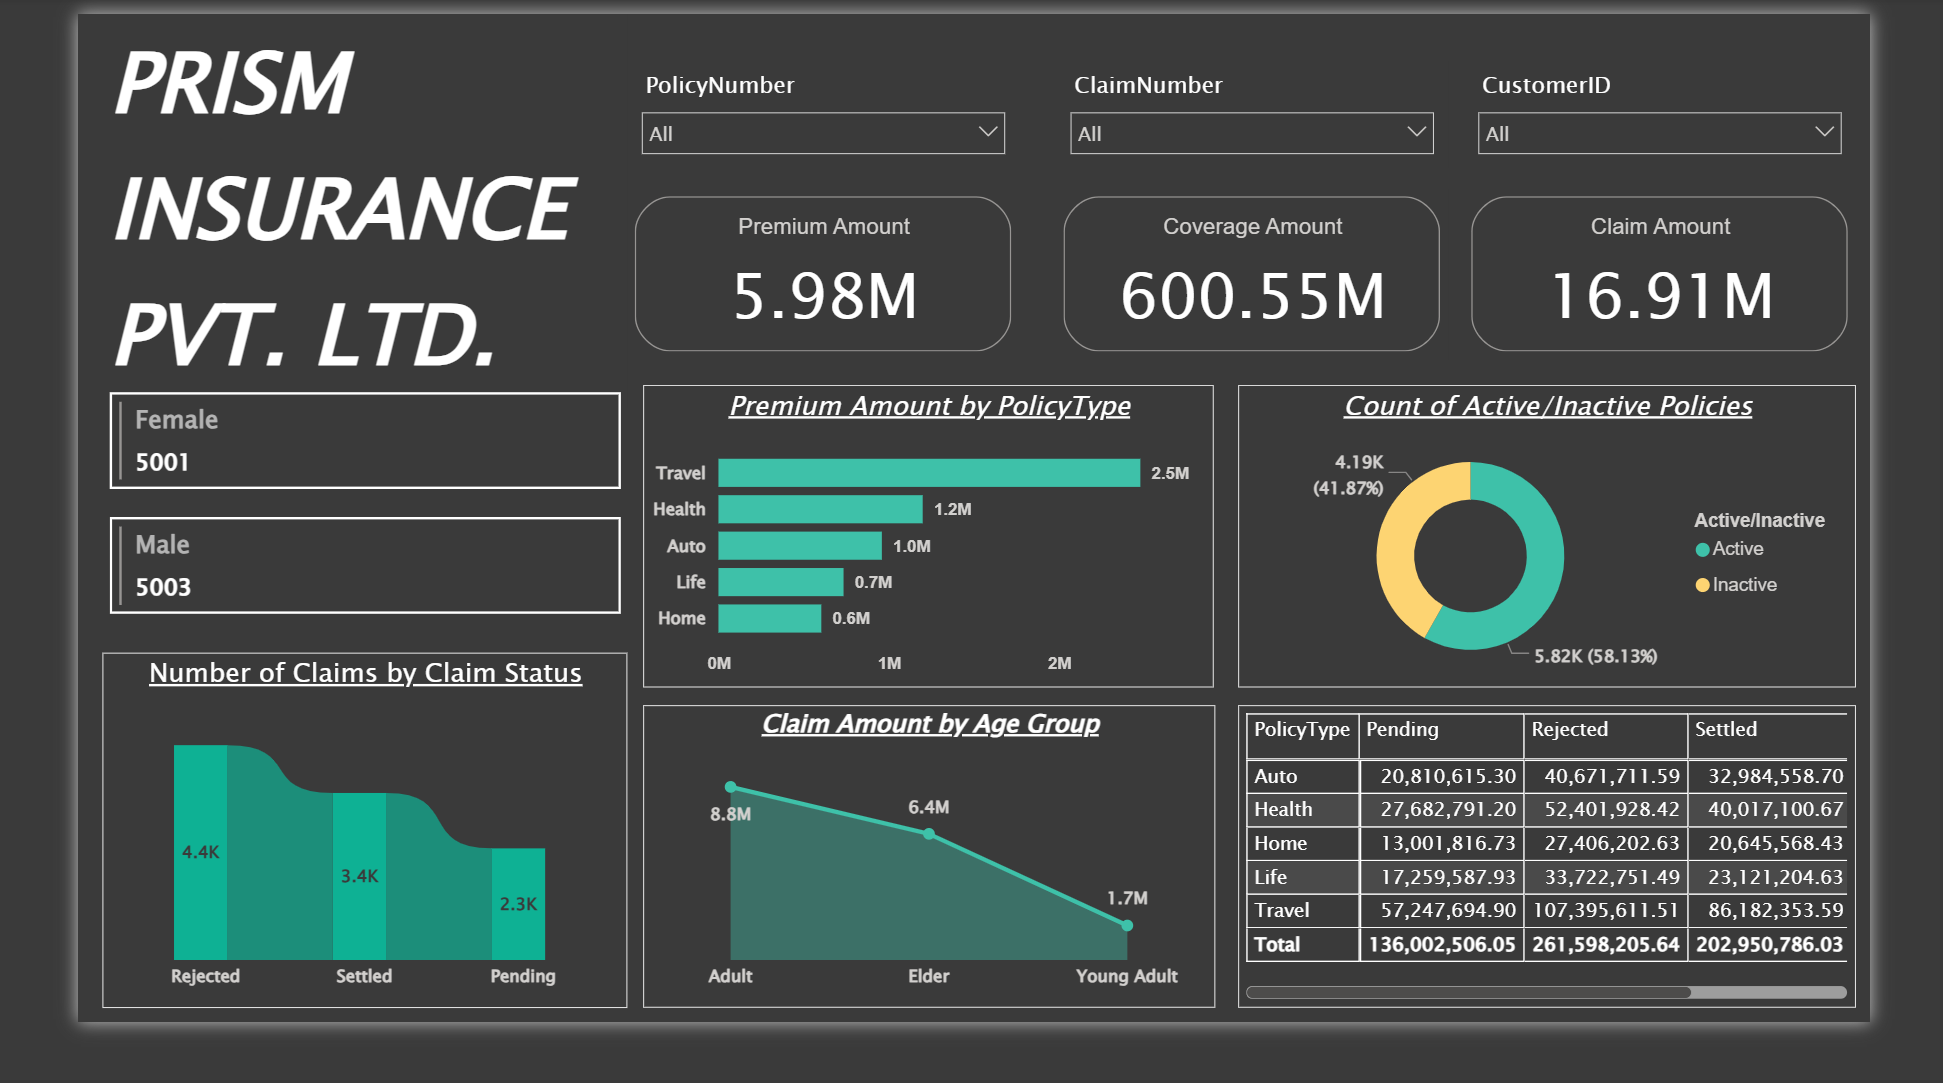

The page's visual inventory and layout, read from the dashboard file:
{"tool":"powerbi","page":{"name":"Page 1","canvas":[1280,720],"ordinal":0},"visuals":[{"type":"slicer","fields":{"Values":["InsuranceData.PolicyNumber"]},"box":[393,33.6,279.8,75.9],"z":0},{"type":"slicer","fields":{"Values":["InsuranceData.ClaimNumber"]},"box":[699,33.6,279.8,75.9],"z":1000},{"type":"slicer","fields":{"Values":["InsuranceData.CustomerID"]},"box":[990,33.6,279.8,75.9],"z":2000},{"type":"textbox","box":[17.5,0,375,281.2],"z":3000},{"type":"cardVisual","fields":{"Data":["Sum(InsuranceData.PremiumAmount)"]},"box":[393,125.6,279.8,121.9],"z":4000},{"type":"cardVisual","fields":{"Data":["Sum(InsuranceData.CoverageAmount)"]},"box":[699,125.6,279.8,121.9],"z":5000},{"type":"cardVisual","fields":{"Data":["Sum(InsuranceData.ClaimAmount)"]},"box":[990,125.6,279.8,121.9],"z":6000},{"type":"multiRowCard","fields":{"Values":["InsuranceData.Gender","CountNonNull(InsuranceData.Gender)"]},"box":[17.5,265,375,191.2],"z":7000},{"type":"ribbonChart","fields":{"Category":["InsuranceData.ClaimStatus"],"Y":["CountNonNull(InsuranceData.ClaimStatus)"]},"box":[17.5,456.2,375,253.8],"z":8000},{"type":"barChart","title":"Premium Amount by PolicyType","fields":{"Category":["InsuranceData.PolicyType"],"Y":["Sum(InsuranceData.PremiumAmount)"]},"box":[403.8,265,407.5,216.2],"z":9000},{"type":"lineChart","title":"Claim Amount by Age Group","fields":{"Y":["Sum(InsuranceData.ClaimAmount)"],"Category":["InsuranceData.Age Group"]},"box":[403.8,493.8,408.8,216.2],"z":10000},{"type":"donutChart","title":"Count of Active/Inactive Policies","fields":{"Category":["InsuranceData.Active/Inactive"],"Y":["CountNonNull(InsuranceData.Active/Inactive)"]},"box":[828.8,265,441.2,216.2],"z":10001},{"type":"pivotTable","fields":{"Rows":["InsuranceData.PolicyType"],"Columns":["InsuranceData.ClaimStatus"],"Values":["Sum(InsuranceData.CoverageAmount)"]},"box":[829,494,441,216],"z":10002}]}

Visuals, with their boxes in screenshot pixels (x1, y1, x2, y2), scaled from the page's 1280x720 canvas onto the 1943x1083 screenshot:
slicer - InsuranceData.PolicyNumber: 597, 51, 1021, 165
slicer - InsuranceData.ClaimNumber: 1061, 51, 1486, 165
slicer - InsuranceData.CustomerID: 1503, 51, 1928, 165
textbox: 27, 0, 596, 423
cardVisual - Sum(InsuranceData.PremiumAmount): 597, 189, 1021, 372
cardVisual - Sum(InsuranceData.CoverageAmount): 1061, 189, 1486, 372
cardVisual - Sum(InsuranceData.ClaimAmount): 1503, 189, 1928, 372
multiRowCard - InsuranceData.Gender x CountNonNull(InsuranceData.Gender): 27, 399, 596, 686
ribbonChart - InsuranceData.ClaimStatus x CountNonNull(InsuranceData.ClaimStatus): 27, 686, 596, 1068
"Premium Amount by PolicyType" barChart: 613, 399, 1232, 724
"Claim Amount by Age Group" lineChart: 613, 743, 1234, 1068
"Count of Active/Inactive Policies" donutChart: 1258, 399, 1928, 724
pivotTable - InsuranceData.PolicyType x InsuranceData.ClaimStatus: 1258, 743, 1928, 1068
